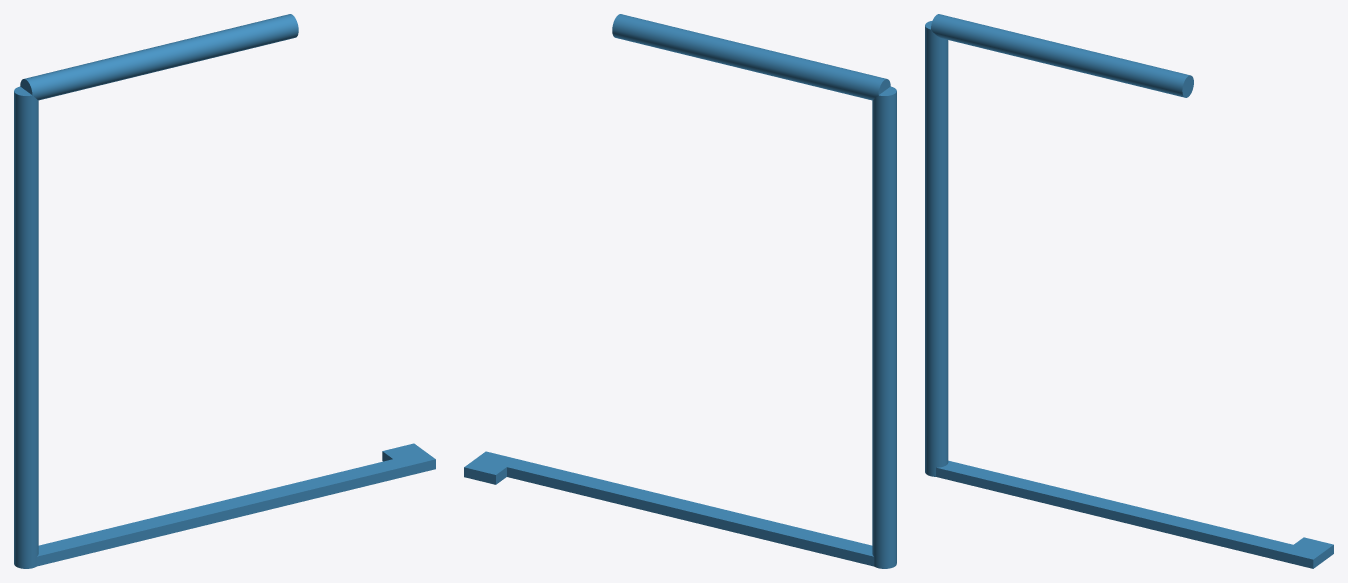
File: Dock_Lead_Signal_v3_4d.glb
The picture shows the model from 3 angles, left to right: view 1: azimuth 30°, elevation 25°; view 2: azimuth 150°, elevation 25°; view 3: azimuth 330°, elevation 25°; orthographic projection. The views are drawn at different scales.
Parts seen in each view (by area): view 1: Dock_Lead_Signal_v3_4d; view 2: Dock_Lead_Signal_v3_4d; view 3: Dock_Lead_Signal_v3_4d.
Part boxes in pixels (<box>): Dock_Lead_Signal_v3_4d: <box>14,14,435,568</box>; Dock_Lead_Signal_v3_4d: <box>464,14,896,568</box>; Dock_Lead_Signal_v3_4d: <box>925,14,1333,568</box>.
Bounding box in the file's own units: 35.2 × 39.25 × 3.3.
